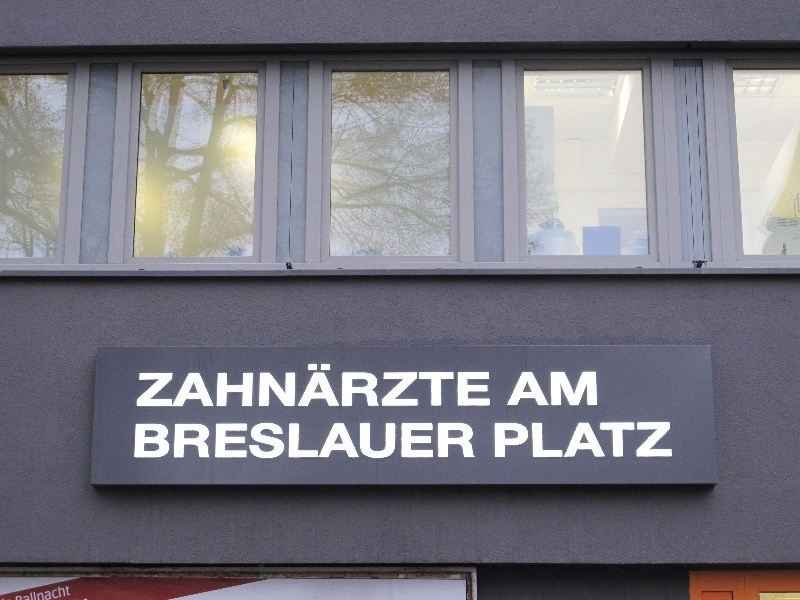text: (145, 364, 160, 408), (161, 364, 176, 408), (177, 364, 192, 408), (193, 364, 208, 408), (209, 364, 224, 408), (225, 364, 240, 408), (241, 364, 256, 408), (257, 364, 272, 408), (273, 364, 288, 408), (289, 364, 304, 408), (305, 364, 320, 408), (321, 364, 336, 408), (337, 364, 352, 408), (353, 364, 368, 408), (369, 364, 384, 408), (385, 364, 400, 408), (401, 364, 416, 408), (417, 364, 432, 408), (433, 364, 448, 408), (449, 364, 464, 408), (465, 364, 480, 408), (657, 424, 673, 458), (145, 424, 160, 459), (161, 424, 176, 459), (177, 424, 192, 459), (193, 424, 208, 459), (209, 424, 224, 459), (225, 424, 240, 459), (241, 424, 256, 459), (257, 424, 272, 459), (273, 424, 288, 459), (289, 424, 304, 459), (305, 424, 320, 459), (321, 424, 336, 459), (337, 424, 352, 459), (353, 424, 368, 459), (369, 424, 384, 459), (385, 424, 400, 459), (401, 424, 416, 459), (417, 424, 432, 459), (433, 424, 448, 459), (449, 424, 464, 459), (497, 424, 512, 458), (513, 424, 528, 458), (529, 424, 544, 458), (545, 424, 560, 458), (561, 424, 576, 458), (577, 424, 592, 458), (593, 424, 608, 458), (609, 424, 624, 458), (625, 424, 640, 458), (641, 424, 656, 458), (529, 373, 544, 407), (545, 373, 560, 407), (561, 373, 576, 407), (577, 373, 592, 407), (481, 364, 491, 408), (465, 424, 476, 459), (136, 424, 144, 459), (17, 584, 32, 600), (33, 584, 48, 600), (49, 584, 64, 600), (140, 364, 144, 408), (523, 373, 528, 407), (593, 373, 597, 407), (65, 584, 72, 600), (495, 424, 496, 458)
